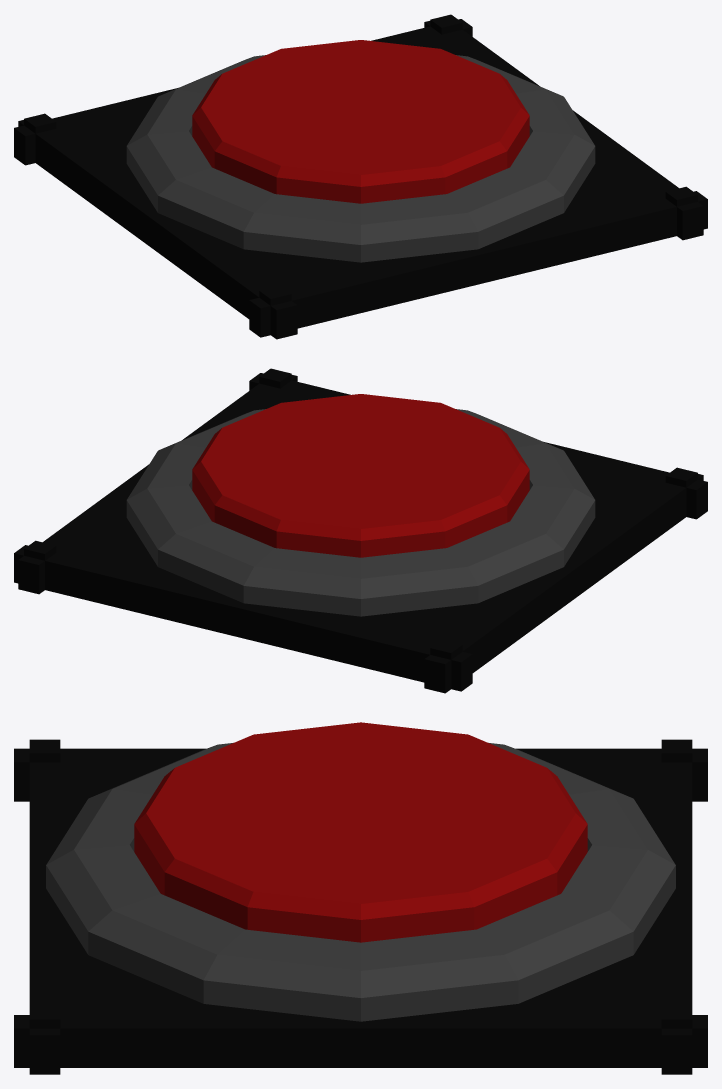
The model's file is buttonblend.fbx.
The picture shows the model from 3 angles, top to bottom: view 1: azimuth 30°, elevation 25°; view 2: azimuth 150°, elevation 25°; view 3: azimuth 270°, elevation 25°; orthographic projection. The views are drawn at different scales.
Parts seen in each view (by area): view 1: Цилиндр, Цилиндр.001; view 2: Цилиндр, Цилиндр.001; view 3: Цилиндр, Цилиндр.001.
Boxes of the visible parts, x1,y1,x2,y2 form: Цилиндр: (14, 14, 707, 339); Цилиндр.001: (192, 40, 529, 203); Цилиндр: (14, 368, 707, 693); Цилиндр.001: (192, 394, 529, 557); Цилиндр: (14, 739, 707, 1074); Цилиндр.001: (134, 722, 587, 942).
Bounding box in the file's own units: 220 × 40.22 × 220.
